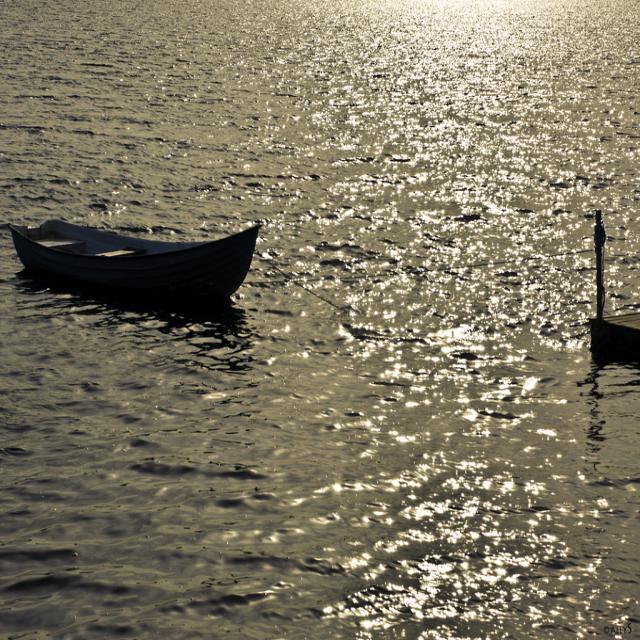Boat: (7, 212, 282, 311)
